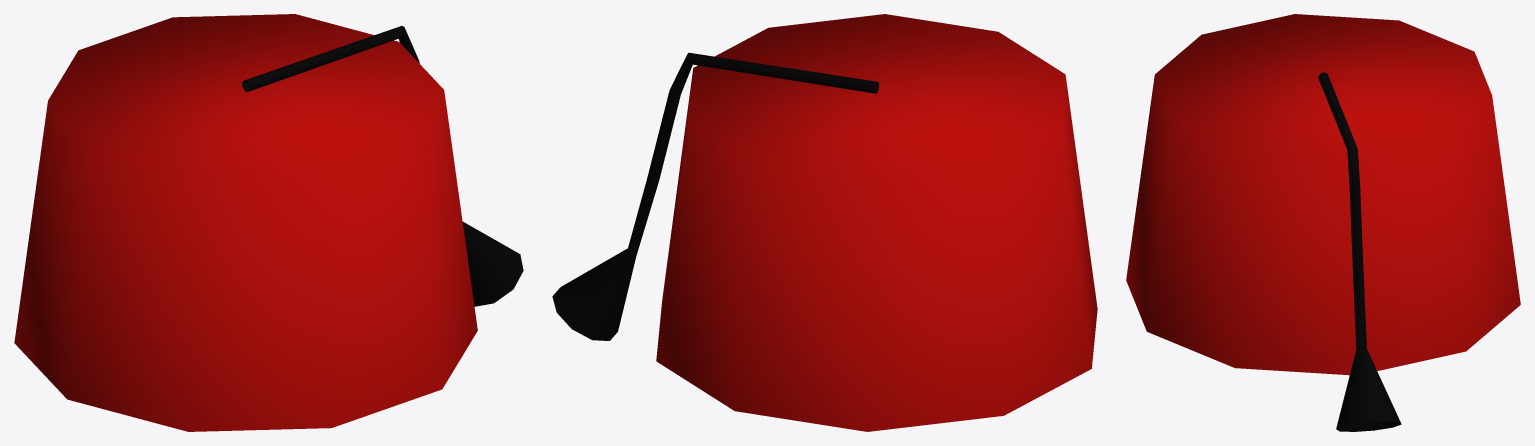
File: fez.fbx
3 views of the same model, side by side, from view 1: azimuth 30°, elevation 25°; view 2: azimuth 150°, elevation 25°; view 3: azimuth 270°, elevation 25° (orthographic). The views are drawn at different scales.
Parts seen in each view (by area): view 1: fez; view 2: fez; view 3: fez.
Part boxes in pixels (box(x1,y1,x2,y2)): fez: box(14, 14, 523, 431); fez: box(552, 14, 1097, 431); fez: box(1126, 14, 1520, 431).
Bounding box in the file's own units: 142 × 81.9 × 114.
